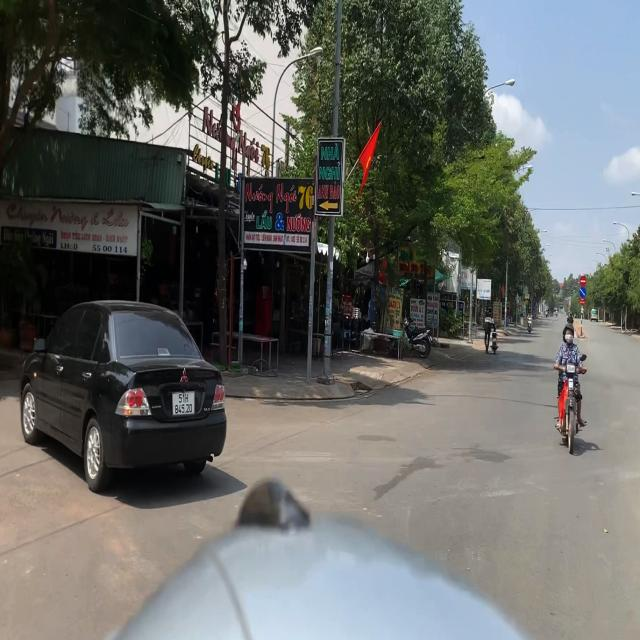Cam nguoc chieu: (580, 276, 587, 286)
Hieu lenh: (580, 288, 586, 298)
